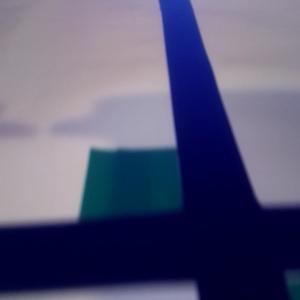top_left: (80, 146, 239, 279)
